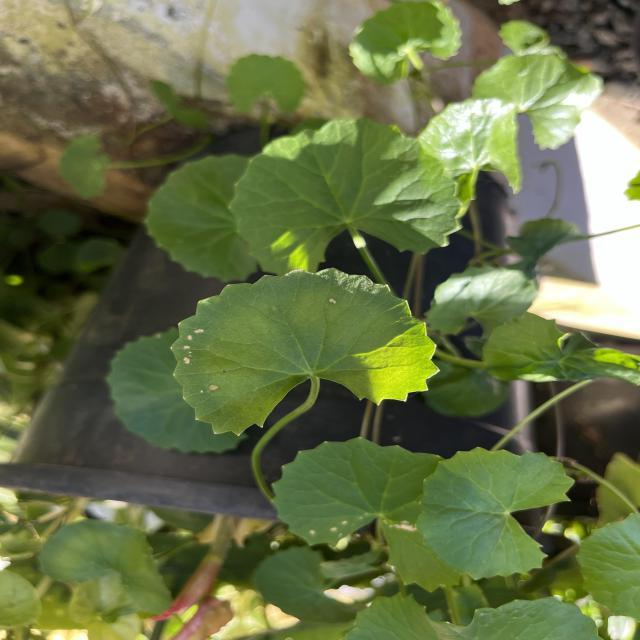Centella asiatica: (167, 265, 443, 439), (414, 442, 579, 584)
